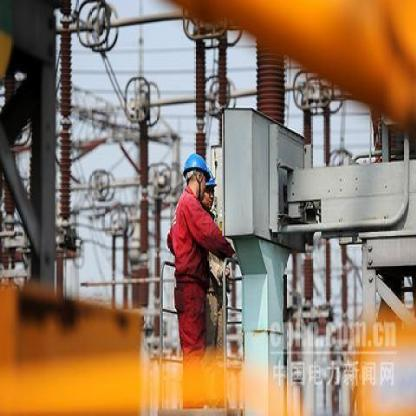helmet: (178, 150, 212, 202)
